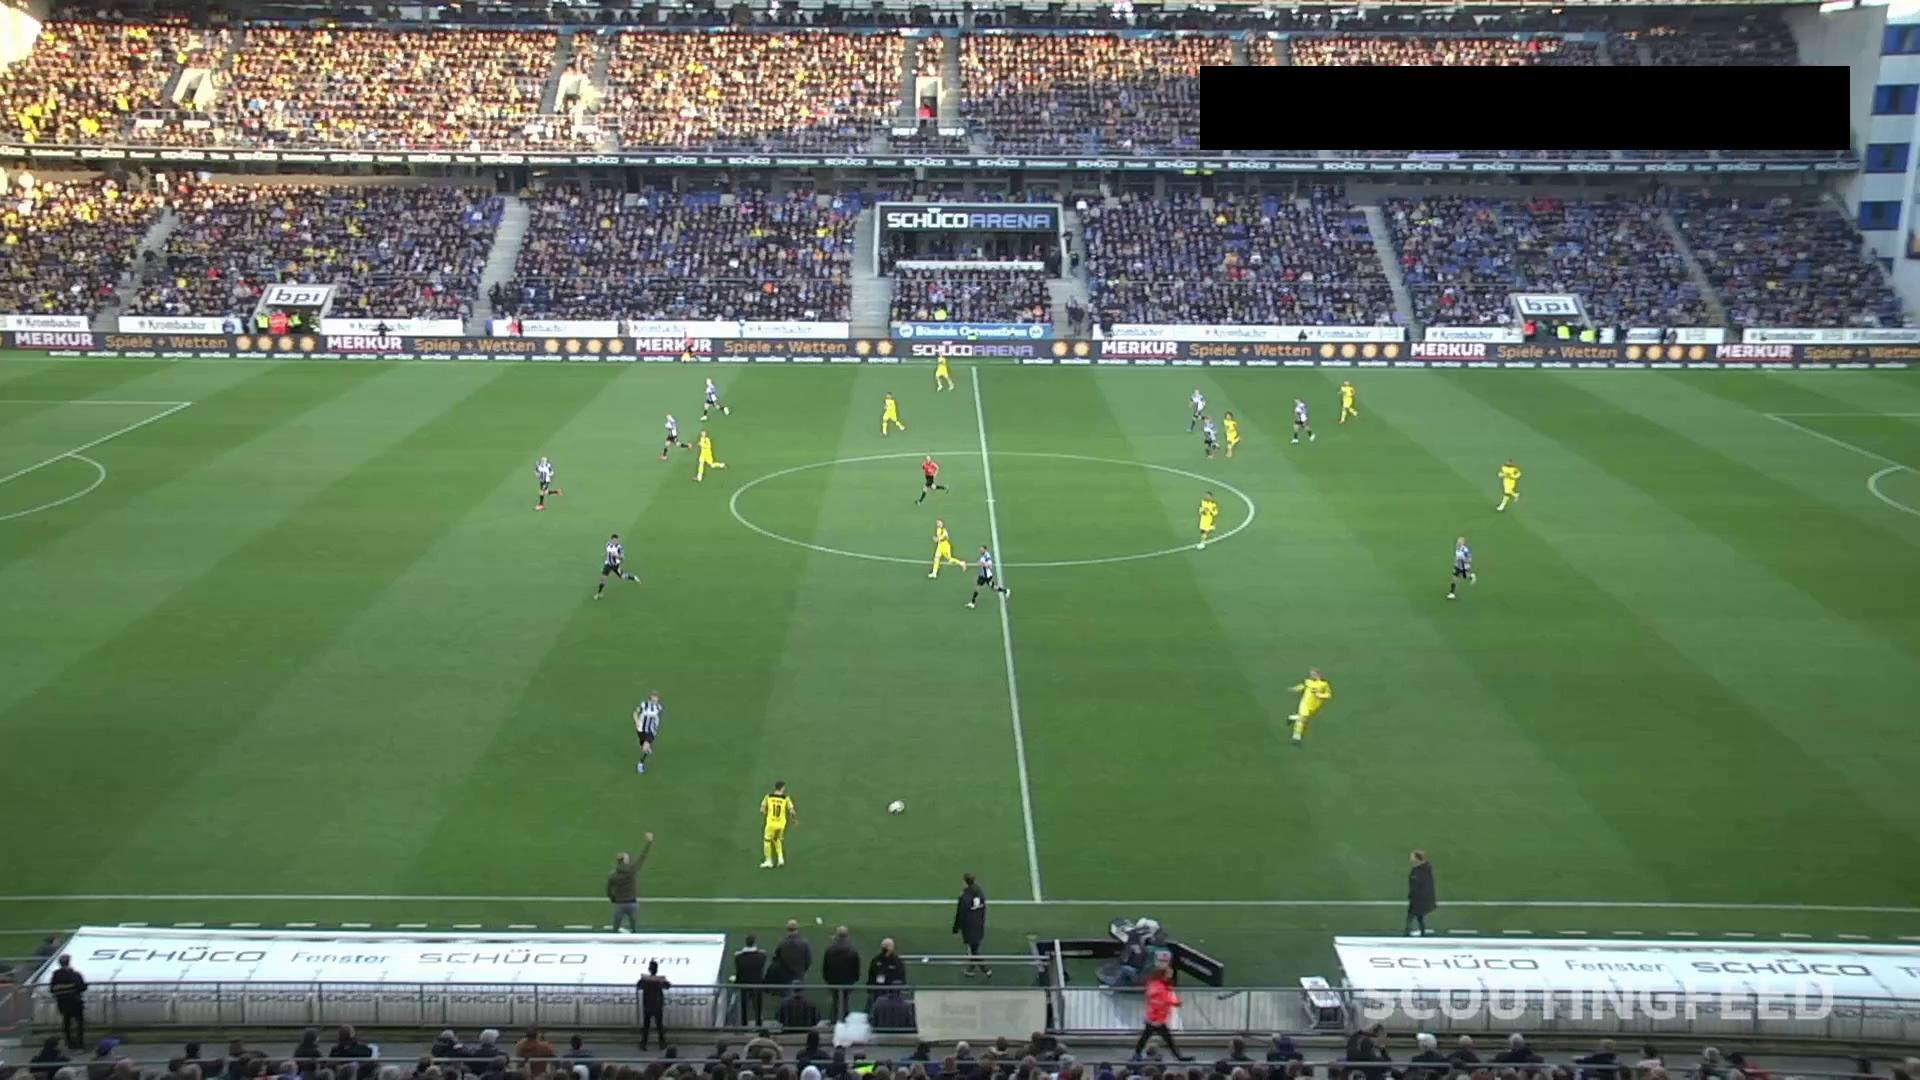Location-of-ball: (882, 790, 906, 816)
